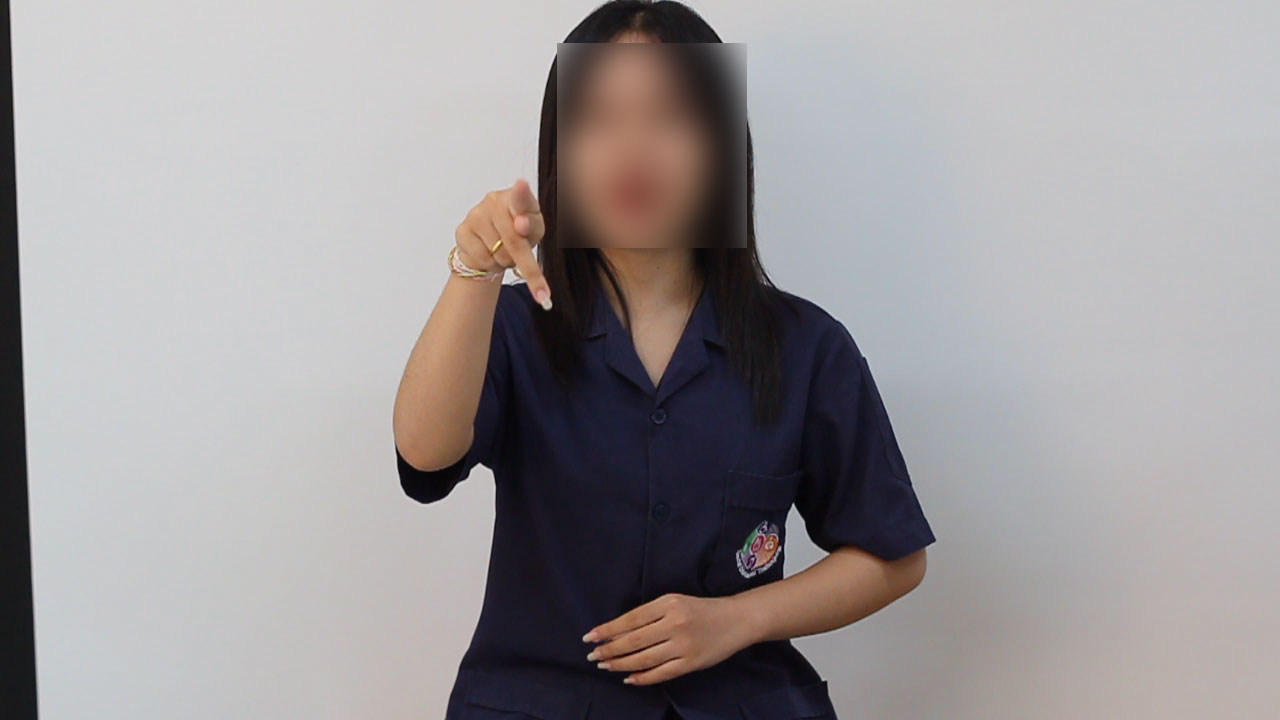por: (438, 160, 569, 325)
